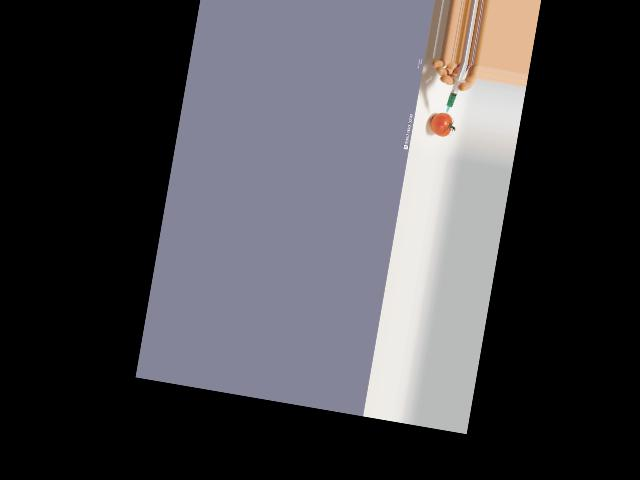tomato: (428, 110, 453, 137)
